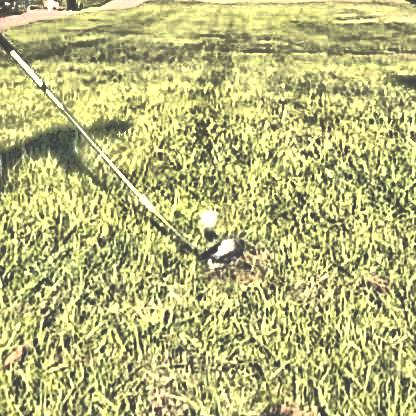golfball: (197, 207, 216, 224)
